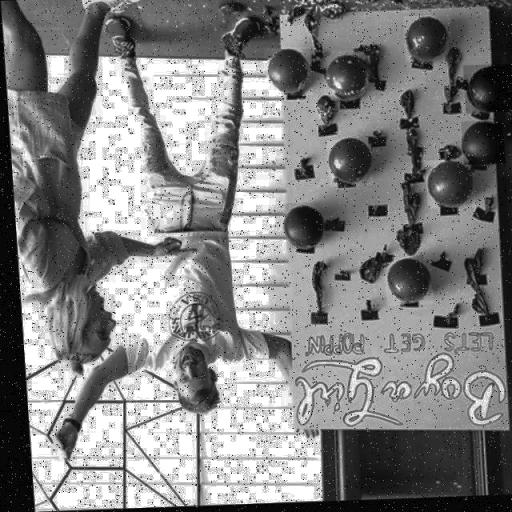balloon: (319, 52, 372, 104), (421, 162, 472, 211), (461, 67, 512, 116), (379, 258, 428, 308), (262, 48, 310, 98), (402, 18, 451, 64), (324, 140, 370, 188), (458, 123, 503, 168), (280, 204, 320, 250)
